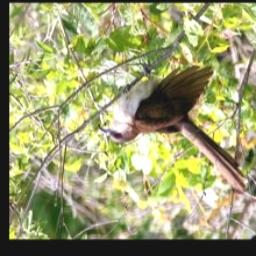Cuckoo: (97, 59, 215, 198)
